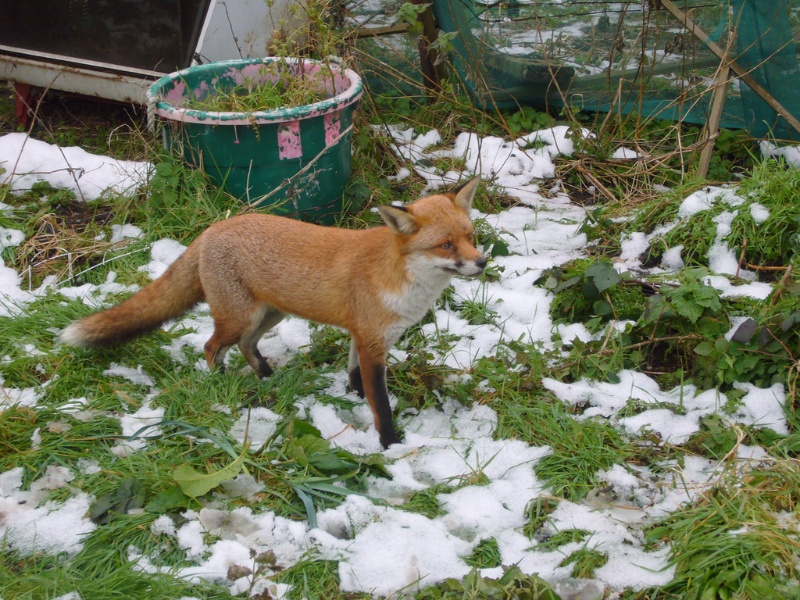fox: (57, 172, 498, 449)
